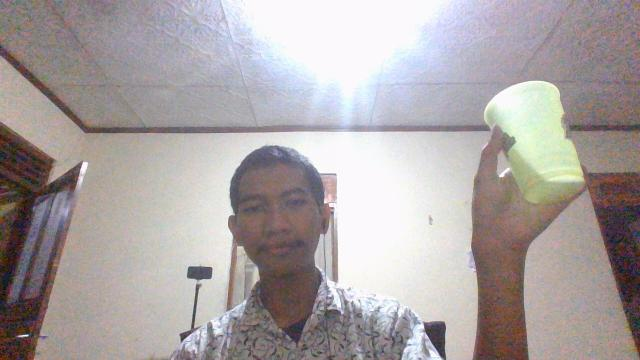botol-hijau: (482, 79, 588, 205)
